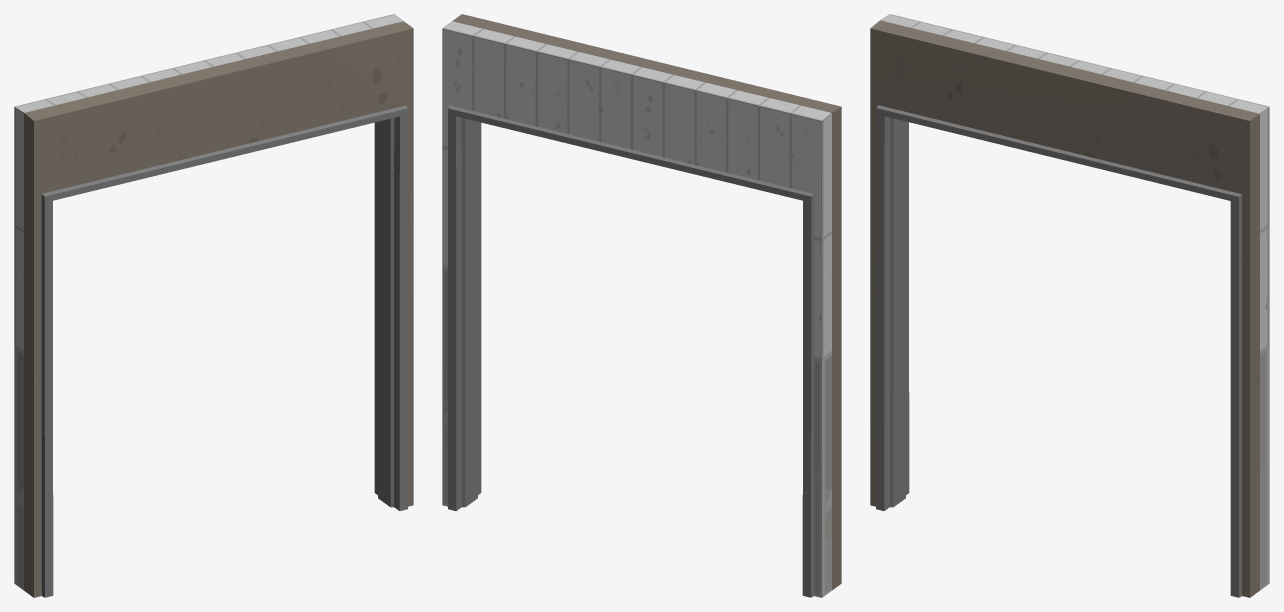
Rendered from SM_Bld_Base_Wall_Door_Double_Large_01_1147.obj.
3 renders of one model, left to right at view 1: azimuth 30°, elevation 25°; view 2: azimuth 150°, elevation 25°; view 3: azimuth 330°, elevation 25°, orthographic.
Parts seen in each view (by area): view 1: SM_Bld_Base_Wall_Door_Double_Large_01_2, SM_Bld_Base_Wall_Door_Double_Large_01_1, SM_Bld_Base_Wall_Door_Double_Large_01_0; view 2: SM_Bld_Base_Wall_Door_Double_Large_01_0, SM_Bld_Base_Wall_Door_Double_Large_01_1, SM_Bld_Base_Wall_Door_Double_Large_01_2; view 3: SM_Bld_Base_Wall_Door_Double_Large_01_2, SM_Bld_Base_Wall_Door_Double_Large_01_1, SM_Bld_Base_Wall_Door_Double_Large_01_0.
Boxes of the visible parts, x1,y1,x2,y2 form: SM_Bld_Base_Wall_Door_Double_Large_01_2: [24, 21, 413, 597]; SM_Bld_Base_Wall_Door_Double_Large_01_1: [41, 105, 407, 597]; SM_Bld_Base_Wall_Door_Double_Large_01_0: [14, 14, 403, 590]; SM_Bld_Base_Wall_Door_Double_Large_01_0: [442, 21, 831, 597]; SM_Bld_Base_Wall_Door_Double_Large_01_1: [448, 105, 814, 597]; SM_Bld_Base_Wall_Door_Double_Large_01_2: [452, 14, 841, 590]; SM_Bld_Base_Wall_Door_Double_Large_01_2: [870, 20, 1259, 597]; SM_Bld_Base_Wall_Door_Double_Large_01_1: [876, 105, 1241, 597]; SM_Bld_Base_Wall_Door_Double_Large_01_0: [880, 14, 1269, 590].
Bounding box in the file's own units: 2.5 × 3.01 × 0.288.
Materials: 3 (3 with a texture image).
